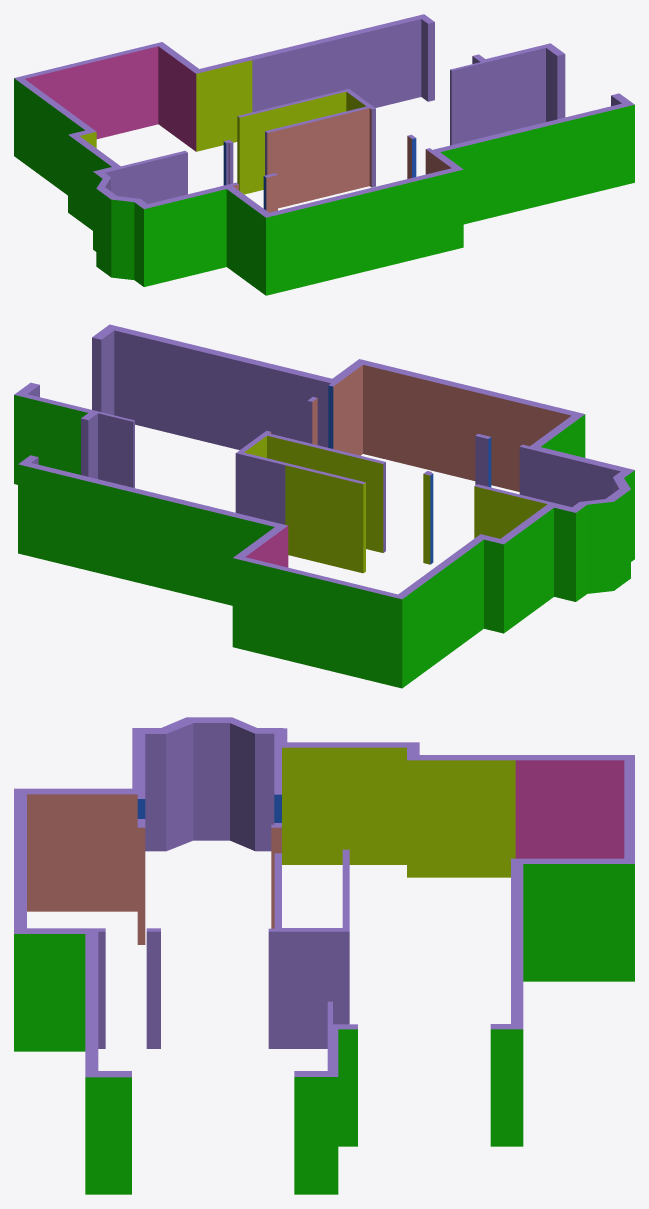
File: garage.fbx
3 renders of one model, top to bottom at view 1: azimuth 30°, elevation 25°; view 2: azimuth 150°, elevation 25°; view 3: azimuth 270°, elevation 25°, orthographic. The views are drawn at different scales.
Visible parts, largest first — view 1: waende; view 2: waende; view 3: waende.
Part boxes in pixels (box(x1,y1,x2,y2)): waende: box(14, 14, 634, 295); waende: box(14, 324, 634, 688); waende: box(14, 717, 634, 1194).
Size of the model in its own units: 716 by 109 by 522.
